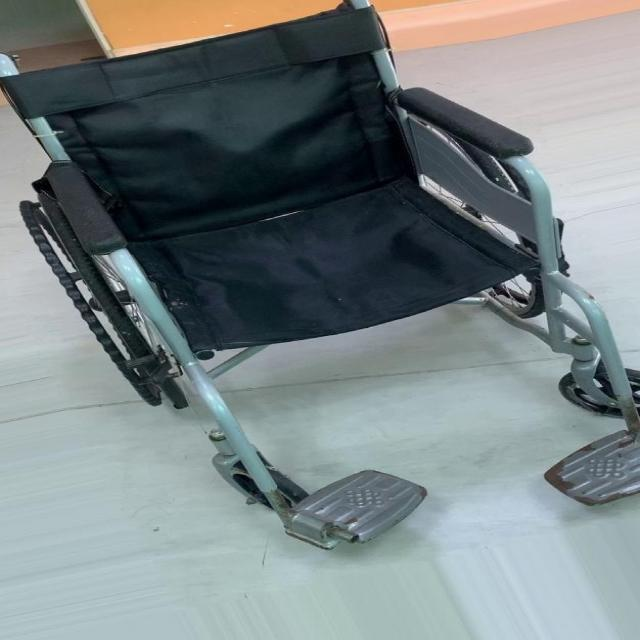wheelchair: (0, 4, 640, 562)
